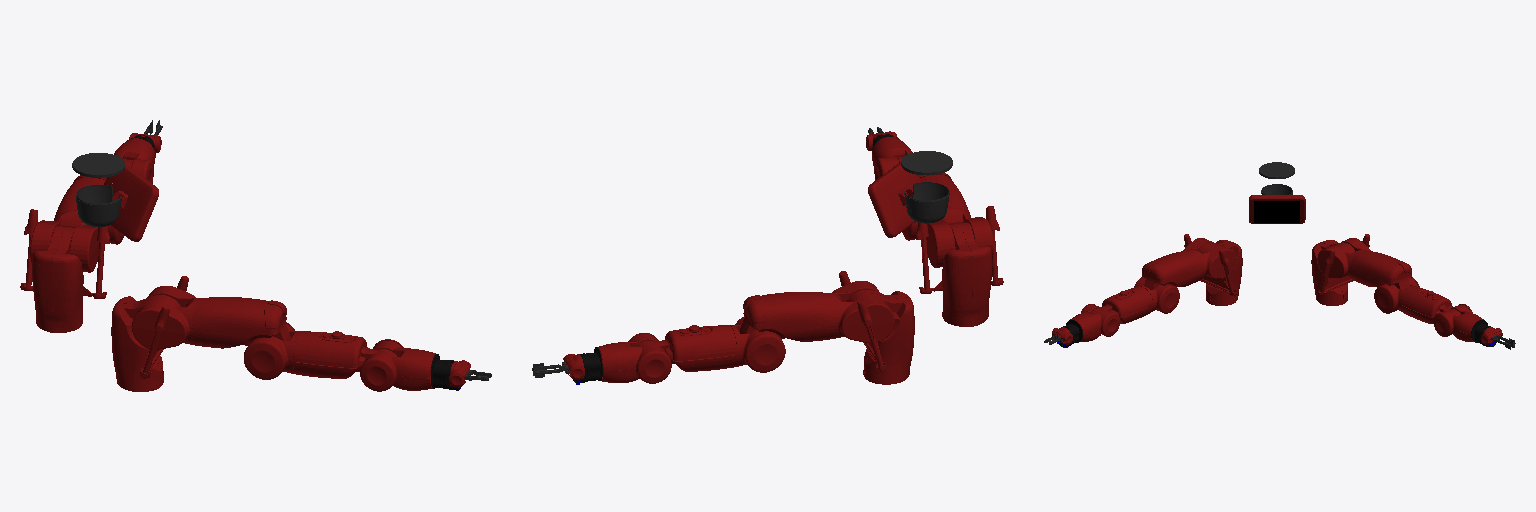
--- Facts derived from the render (not from the file) ---
3 views of the same robot in one strip: view 1: azimuth 30°, elevation 25°; view 2: azimuth 150°, elevation 25°; view 3: azimuth 270°, elevation 25° (orthographic).
Model baxter with 57 links and 56 joints (15 revolute, 4 prismatic, 37 fixed), rooted at base, posed every joint at zero.
Visible links, largest first — view 1: left_upper_shoulder, right_upper_elbow, right_upper_shoulder, right_upper_forearm, right_lower_forearm, right_lower_shoulder, screen, left_lower_shoulder, right_lower_elbow, head, sonar_ring, left_lower_forearm (+2 smaller); view 2: right_upper_shoulder, left_upper_elbow, left_upper_shoulder, left_upper_forearm, left_lower_forearm, left_lower_shoulder, screen, right_lower_shoulder, left_lower_elbow, head, sonar_ring, right_lower_forearm (+2 smaller); view 3: right_upper_elbow, left_upper_elbow, right_upper_shoulder, left_upper_shoulder, left_upper_forearm, right_upper_forearm, left_lower_forearm, right_lower_forearm, display, left_lower_shoulder, right_lower_shoulder, right_lower_elbow (+2 smaller).
Link boxes in pixels (bbox=[...]): left_upper_shoulder: bbox=[20, 209, 109, 332]; right_upper_elbow: bbox=[191, 297, 290, 348]; right_upper_shoulder: bbox=[111, 276, 188, 391]; right_upper_forearm: bbox=[293, 331, 396, 378]; right_lower_forearm: bbox=[360, 339, 435, 391]; right_lower_shoulder: bbox=[132, 286, 198, 349]; screen: bbox=[104, 164, 158, 241]; left_lower_shoulder: bbox=[30, 210, 99, 272]; right_lower_elbow: bbox=[244, 322, 299, 379]; head: bbox=[76, 185, 121, 226]; sonar_ring: bbox=[72, 153, 124, 177]; left_lower_forearm: bbox=[114, 138, 155, 183]; right_upper_shoulder: bbox=[916, 206, 1003, 326]; left_upper_elbow: bbox=[739, 292, 836, 341]; left_upper_shoulder: bbox=[839, 271, 914, 384]; left_upper_forearm: bbox=[636, 325, 736, 371]; left_lower_forearm: bbox=[598, 333, 671, 383]; left_lower_shoulder: bbox=[830, 281, 894, 342]; screen: bbox=[868, 162, 921, 237]; right_lower_shoulder: bbox=[926, 207, 993, 267]; left_lower_elbow: bbox=[730, 316, 785, 372]; head: bbox=[904, 182, 949, 223]; sonar_ring: bbox=[901, 151, 952, 174]; right_lower_forearm: bbox=[872, 137, 912, 180]; right_upper_elbow: bbox=[1142, 250, 1204, 289]; left_upper_elbow: bbox=[1349, 250, 1411, 289]; right_upper_shoulder: bbox=[1184, 234, 1242, 305]; left_upper_shoulder: bbox=[1311, 234, 1369, 305]; left_upper_forearm: bbox=[1401, 286, 1460, 323]; right_upper_forearm: bbox=[1091, 286, 1152, 323]; left_lower_forearm: bbox=[1433, 304, 1483, 342]; right_lower_forearm: bbox=[1070, 304, 1119, 342]; display: bbox=[1254, 201, 1299, 222]; left_lower_shoulder: bbox=[1317, 238, 1370, 279]; right_lower_shoulder: bbox=[1183, 238, 1236, 279]; right_lower_elbow: bbox=[1134, 277, 1179, 313].
Size in the robot's own frame: 0.9575 by 2.21 by 0.6706 metres.
26 mesh visuals loaded from 16 distinct referenced files (14 Collada DAE); not drawn: 2 (reference not matched to a file when rendering).

URDF robot description (baxter):
<?xml version="1.0" ?>
<!-- =================================================================================== -->
<!-- |    This document was autogenerated by xacro from baxter.urdf.xacro              | -->
<!-- |    EDITING THIS FILE BY HAND IS NOT RECOMMENDED                                 | -->
<!-- =================================================================================== -->
<robot name="baxter" xmlns:xacro="http://www.ros.org/wiki/xacro">
  <link name="base">
  </link>
  <link name="torso">
    <visual>
      <origin rpy="0 0 0" xyz="0 0 0"/>
      <geometry>
        <mesh filename="package://baxter_description/meshes/torso/base_link.DAE"/>
      </geometry>
      <material name="darkgray">
        <color rgba=".2 .2 .2 1"/>
      </material>
    </visual>
    <collision>
      <origin rpy="0 0 0" xyz="0 0 0"/>
      <geometry>
        <mesh filename="package://baxter_description/meshes/torso/base_link_collision.DAE"/>
      </geometry>
    </collision>
    <inertial>
      <origin rpy="0 0 0" xyz="0.000000 0.000000 0.000000"/>
      <mass value="35.336455"/>
      <inertia ixx="1.849155" ixy="-0.000354" ixz="-0.154188" iyy="1.662671" iyz="0.003292" izz="0.802239"/>
    </inertial>
  </link>
  <link name="left_torso_itb">
    <inertial>
      <origin rpy="0 0 0" xyz="0.000000 0.000000 0.000000"/>
      <mass value="0.0001"/>
      <inertia ixx="1e-08" ixy="0" ixz="0" iyy="1e-08" iyz="0" izz="1e-08"/>
    </inertial>
  </link>
  <link name="right_torso_itb">
    <inertial>
      <origin rpy="0 0 0" xyz="0.000000 0.000000 0.000000"/>
      <mass value="0.0001"/>
      <inertia ixx="1e-08" ixy="0" ixz="0" iyy="1e-08" iyz="0" izz="1e-08"/>
    </inertial>
  </link>
  <link name="head">
    <visual>
      <origin rpy="0 0 0" xyz="0 0 .00953"/>
      <geometry>
        <mesh filename="package://baxter_description/meshes/head/H0.DAE"/>
      </geometry>
      <material name="darkgray">
        <color rgba=".2 .2 .2 1"/>
      </material>
    </visual>
    <collision>
      <origin rpy="0 0 0" xyz="0.0 0 0.0"/>
      <geometry>
        <sphere radius="0.001"/>
      </geometry>
    </collision>
    <inertial>
      <origin rpy="0 0 0" xyz="0 0 0"/>
      <mass value="0.547767"/>
      <inertia ixx="0.004641" ixy="0.000159" ixz="0.000242" iyy="0.003295" iyz="-0.001324" izz="0.003415"/>
    </inertial>
  </link>
  <link name="sonar_ring">
    <visual>
      <origin rpy="0 0 0" xyz="-.0347 0 .00953"/>
      <geometry>
        <cylinder length="0.01" radius="0.085"/>
      </geometry>
      <material name="darkgray">
        <color rgba=".2 .2 .2 1"/>
      </material>
    </visual>
    <collision>
      <origin rpy="0 0 0" xyz="0.0 0 0.0"/>
      <geometry>
        <sphere radius="0.001"/>
      </geometry>
    </collision>
    <inertial>
      <origin rpy="0 0 0" xyz="0 0 0"/>
      <mass value="0.0001"/>
      <inertia ixx="1e-08" ixy="0" ixz="0" iyy="1e-08" iyz="0" izz="1e-08"/>
    </inertial>
  </link>
  <link name="screen">
    <visual>
      <origin rpy="0 -1.57079632679 0" xyz="0 -.00953 -.0347"/>
      <geometry>
        <mesh filename="package://baxter_description/meshes/head/H1.DAE"/>
      </geometry>
      <material name="darkred">
        <color rgba=".5 .1 .1 1"/>
      </material>
    </visual>
    <collision>
      <origin rpy="0 0 0" xyz="0.0 0 0.0"/>
      <geometry>
        <sphere radius="0.001"/>
      </geometry>
    </collision>
    <inertial>
      <origin rpy="0 0 0" xyz="0 0 0"/>
      <mass value="0.440171"/>
      <inertia ixx="0.004006" ixy="0.000230" ixz="0.000002" iyy="0.002800" iyz="0.000029" izz="0.001509"/>
    </inertial>
  </link>
  <link name="display">
    <visual>
      <origin rpy="0.2617993877991494 0 0" xyz="0 0 0"/>
      <geometry>
        <box size="0.218 0.16 0.001"/>
      </geometry>
      <material name="black">
        <color rgba="0 0 0 1"/>
      </material>
    </visual>
    <inertial>
      <origin rpy="0 0 0" xyz="0 0 0"/>
      <mass value="0.0001"/>
      <inertia ixx="1e-08" ixy="0" ixz="0" iyy="1e-08" iyz="0" izz="1e-08"/>
    </inertial>
  </link>
  <link name="head_camera">
    <inertial>
      <origin rpy="0 0 0" xyz="0 0 0"/>
      <mass value="0.0001"/>
      <inertia ixx="1e-08" ixy="0" ixz="0" iyy="1e-08" iyz="0" izz="1e-08"/>
    </inertial>
  </link>
  <link name="dummyhead1">
    <inertial>
      <origin rpy="0 0 0" xyz="0 0 0"/>
      <mass value="0.0001"/>
      <inertia ixx="1e-08" ixy="0" ixz="0" iyy="1e-08" iyz="0" izz="1e-08"/>
    </inertial>
  </link>
  <link name="collision_head_link_1">
    <visual>
      <origin rpy="0 0 0" xyz="0 0 0"/>
      <geometry>
        <sphere radius="0.001"/>
      </geometry>
      <material name="red">
        <color rgba="0.8 0.3 0.3 0.3"/>
      </material>
    </visual>
    <collision>
      <origin rpy="0 0 0.0" xyz="-0.07 -0.04 0.0"/>
      <geometry>
        <sphere radius="0.22"/>
      </geometry>
    </collision>
    <inertial>
      <origin rpy="0 0 0" xyz="0 0 0"/>
      <mass value="0.0001"/>
      <inertia ixx="1e-08" ixy="0" ixz="0" iyy="1e-08" iyz="0" izz="1e-08"/>
    </inertial>
  </link>
  <link name="collision_head_link_2">
    <visual>
      <origin rpy="0 0 0" xyz="0 0 0"/>
      <geometry>
        <sphere radius="0.001"/>
      </geometry>
      <material name="red">
        <color rgba="0.8 0.3 0.3 0.3"/>
      </material>
    </visual>
    <collision>
      <origin rpy="0 0 0" xyz="-0.07 0.04 0.00"/>
      <geometry>
        <sphere radius="0.22"/>
      </geometry>
    </collision>
    <inertial>
      <origin rpy="0 0 0" xyz="0 0 0"/>
      <mass value="0.0001"/>
      <inertia ixx="1e-08" ixy="0" ixz="0" iyy="1e-08" iyz="0" izz="1e-08"/>
    </inertial>
  </link>
  <joint name="collision_head_1" type="fixed">
    <origin rpy="0 0 0" xyz="0.11 0 0.75"/>
    <parent link="base"/>
    <child link="collision_head_link_1"/>
  </joint>
  <joint name="collision_head_2" type="fixed">
    <origin rpy="0 0 0" xyz="0.11 0 0.75"/>
    <parent link="base"/>
    <child link="collision_head_link_2"/>
  </joint>
  <joint name="dummy" type="fixed">
    <origin rpy="0 0 0" xyz="0 0 0"/>
    <parent link="head"/>
    <child link="dummyhead1"/>
  </joint>
  <joint name="torso_t0" type="fixed">
    <origin rpy="0 0 0" xyz="0 0 0"/>
    <parent link="base"/>
    <child link="torso"/>
    <limit effort="50000" lower="-3.01" upper="3.01" velocity="10000"/>
  </joint>
  <joint name="left_torso_itb_fixed" type="fixed">
    <origin rpy="-1.57079632679 3.1415 0" xyz="-0.08897 0.15593 0.389125"/>
    <parent link="torso"/>
    <child link="left_torso_itb"/>
  </joint>
  <joint name="right_torso_itb_fixed" type="fixed">
    <origin rpy="1.57079632679 0 0" xyz="-0.08897 -0.15593 0.389125"/>
    <parent link="torso"/>
    <child link="right_torso_itb"/>
  </joint>
  <joint name="head_pan" type="revolute">
    <origin rpy="0 0 0" xyz="0.06 0 0.686"/>
    <axis xyz="0 0 1"/>
    <parent link="torso"/>
    <child link="head"/>
    <limit effort="50000" lower="-1.3963" upper="1.3963" velocity="10000"/>
    <dynamics damping="0.7" friction="0.0"/>
  </joint>
  <joint name="head_nod" type="fixed">
    <origin rpy="1.75057 0 1.57079632679" xyz=".1227 0 0"/>
    <parent link="head"/>
    <child link="screen"/>
  </joint>
  <joint name="head_camera" type="fixed">
    <origin rpy="1.75057 0 1.57079632679" xyz="0.12839 0 0.06368"/>
    <parent link="head"/>
    <child link="head_camera"/>
  </joint>
  <joint name="display_joint" type="fixed">
    <origin rpy="0 0 0" xyz="0.0 -0.016 0.0"/>
    <parent link="screen"/>
    <child link="display"/>
  </joint>
  <joint name="sonar_s0" type="fixed">
    <origin rpy="0 0 0" xyz="0.0947 0 .817"/>
    <axis xyz="0 0 1"/>
    <parent link="torso"/>
    <child link="sonar_ring"/>
  </joint>
  <link name="right_arm_mount">
    <!-- all defaults -->
    <inertial>
      <origin rpy="0 0 0" xyz="0 0 0"/>
      <mass value="0.0001"/>
      <inertia ixx="1e-08" ixy="0" ixz="0" iyy="1e-08" iyz="0" izz="1e-08"/>
    </inertial>
  </link>
  <link name="right_upper_shoulder">
    <visual>
      <origin rpy="0 0 0" xyz="0 0 0"/>
      <geometry>
        <mesh filename="package://baxter_description/meshes/upper_shoulder/S0.DAE"/>
      </geometry>
      <material name="darkred">
        <color rgba=".5 .1 .1 1"/>
      </material>
    </visual>
    <collision>
      <origin rpy="0 0 0" xyz="0 0 0.1361"/>
      <geometry>
        <cylinder length="0.2722" radius="0.06"/>
      </geometry>
    </collision>
    <inertial>
      <origin rpy="0 0 0" xyz="0.01783 0.00086 0.19127"/>
      <mass value="5.70044"/>
      <inertia ixx="0.04709102262" ixy="0.00012787556" ixz="0.00614870039" iyy="0.03766976455" iyz="0.00078086899" izz="0.03595988478"/>
    </inertial>
  </link>
  <link name="right_lower_shoulder">
    <visual>
      <origin rpy="0 0 0" xyz="0 0 0"/>
      <geometry>
        <mesh filename="package://baxter_description/meshes/lower_shoulder/S1.DAE"/>
      </geometry>
      <material name="darkred">
        <color rgba=".5 .1 .1 1"/>
      </material>
    </visual>
    <collision>
      <origin rpy="0 0 0" xyz="0 0 0"/>
      <geometry>
        <cylinder length="0.12" radius="0.06"/>
      </geometry>
    </collision>
    <inertial>
      <origin rpy="0 0 0" xyz="0.06845 0.00269 -0.00529"/>
      <mass value="3.22698"/>
      <inertia ixx="0.01175209419" ixy="-0.00030096398" ixz="0.00207675762" iyy="0.0278859752" iyz="-0.00018821993" izz="0.02078749298"/>
    </inertial>
  </link>
  <link name="right_upper_elbow">
    <visual>
      <origin rpy="0 0 0" xyz="0 0 0"/>
      <geometry>
        <mesh filename="package://baxter_description/meshes/upper_elbow/E0.DAE"/>
      </geometry>
      <material name="darkred">
        <color rgba=".5 .1 .1 1"/>
      </material>
    </visual>
    <collision>
      <origin rpy="0 0 0" xyz="0 0 -0.0535"/>
      <geometry>
        <cylinder length="0.107" radius="0.06"/>
      </geometry>
    </collision>
    <inertial>
      <origin rpy="0 0 0" xyz="-0.00276 0.00132 0.18086"/>
      <mass value="4.31272"/>
      <inertia ixx="0.02661733557" ixy="0.00029270634" ixz="0.00392189887" iyy="0.02844355207" iyz="0.0010838933" izz="0.01248008322"/>
    </inertial>
  </link>
  <link name="right_upper_elbow_visual">
    <collision>
      <origin rpy="0 0 0" xyz="0 0 0.1365"/>
      <geometry>
        <cylinder length="0.273" radius="0.06"/>
      </geometry>
    </collision>
    <inertial>
      <origin rpy="0 0 0" xyz="0 0 0"/>
      <mass value="0.0001"/>
      <inertia ixx="1e-08" ixy="0" ixz="0" iyy="1e-08" iyz="0" izz="1e-08"/>
    </inertial>
  </link>
  <link name="right_lower_elbow">
    <visual>
      <origin rpy="0 0 0" xyz="0 0 0"/>
      <geometry>
        <mesh filename="package://baxter_description/meshes/lower_elbow/E1.DAE"/>
      </geometry>
      <material name="darkred">
        <color rgba=".5 .1 .1 1"/>
      </material>
    </visual>
    <collision>
      <origin rpy="0 0 0" xyz="0.0 0.0 0.0"/>
      <geometry>
        <cylinder length="0.10" radius="0.06"/>
      </geometry>
    </collision>
    <inertial>
      <origin rpy="0 0 0" xyz="0.02611 0.00159 -0.01117"/>
      <mass value="2.07206"/>
      <inertia ixx="0.00711582686" ixy="0.00036036173" ixz="0.0007459496" iyy="0.01318227876" iyz="-0.00019663418" izz="0.00926852064"/>
    </inertial>
  </link>
  <link name="right_upper_forearm">
    <visual>
      <origin rpy="0 0 0" xyz="0 0 0"/>
      <geometry>
        <mesh filename="package://baxter_description/meshes/upper_forearm/W0.DAE"/>
      </geometry>
      <material name="darkred">
        <color rgba=".5 .1 .1 1"/>
      </material>
    </visual>
    <collision>
      <origin rpy="0 0 0" xyz="0 0 -0.044"/>
      <geometry>
        <cylinder length="0.088" radius="0.06"/>
      </geometry>
    </collision>
    <inertial>
      <origin rpy="0 0 0" xyz="-0.00168 0.0046 0.13952"/>
      <mass value="2.24665"/>
      <inertia ixx="0.01667742825" ixy="0.00018403705" ixz="0.00018657629" iyy="0.01675457264" iyz="-0.00064732352" izz="0.0037463115"/>
    </inertial>
  </link>
  <link name="right_upper_forearm_visual">
    <collision>
      <origin rpy="0 0 0" xyz="0 0 0.136"/>
      <geometry>
        <cylinder length="0.272" radius="0.06"/>
      </geometry>
    </collision>
    <inertial>
      <origin rpy="0 0 0" xyz="0 0 0"/>
      <mass value="0.0001"/>
      <inertia ixx="1e-08" ixy="0" ixz="0" iyy="1e-08" iyz="0" izz="1e-08"/>
    </inertial>
  </link>
  <link name="right_arm_itb">
    <inertial>
      <origin rpy="0 0 0" xyz="0.000000 0.000000 0.000000"/>
      <mass value="0.0001"/>
      <inertia ixx="1e-08" ixy="0" ixz="0" iyy="1e-08" iyz="0" izz="1e-08"/>
    </inertial>
  </link>
  <link name="right_lower_forearm">
    <visual>
      <origin rpy="0 0 0" xyz="0 0 0"/>
      <geometry>
        <mesh filename="package://baxter_description/meshes/lower_forearm/W1.DAE"/>
      </geometry>
      <material name="darkred">
        <color rgba=".5 .1 .1 1"/>
      </material>
    </visual>
    <collision>
      <origin rpy="0 0 0" xyz="0 0 0"/>
      <geometry>
        <cylinder length="0.10" radius="0.06"/>
      </geometry>
    </collision>
    <inertial>
      <origin rpy="0 0 0" xyz="0.06041 0.00697 0.006"/>
      <mass value="1.60979"/>
      <inertia ixx="0.00387607152" ixy="-0.00044384784" ixz="-0.00021115038" iyy="0.00700537914" iyz="0.00015348067" izz="0.0055275524"/>
    </inertial>
  </link>
  <link name="right_wrist">
    <visual>
      <origin rpy="0 0 0" xyz="0 0 0"/>
      <geometry>
        <mesh filename="package://baxter_description/meshes/wrist/W2.DAE"/>
      </geometry>
      <material name="lightgrey">
        <color rgba=".1 .1 .1 1"/>
      </material>
    </visual>
    <collision>
      <origin rpy="0 0 0" xyz="0 0 0"/>
      <geometry>
        <cylinder length="0.165" radius="0.06"/>
      </geometry>
    </collision>
    <inertial>
      <origin rpy="0 0 0" xyz="0.00198 0.00125 0.01855"/>
      <mass value="0.35093"/>
      <inertia ixx="0.00025289155" ixy="0.00000575311" ixz="-0.00000159345" iyy="0.0002688601" iyz="-0.00000519818" izz="0.0003074118"/>
    </inertial>
  </link>
  <link name="right_hand">
    <collision>
      <origin rpy="0 0 0" xyz="0 0 -0.0232"/>
      <geometry>
        <cylinder length="0.0464" radius="0.04"/>
      </geometry>
    </collision>
    <inertial>
      <origin rpy="0 0 0" xyz="0.01093 0.00042 -0.01532"/>
      <mass value="0.19125"/>
      <inertia ixx="0.00017588" ixy="0.00000147073" ixz="0.0000243633" iyy="0.00021166377" iyz="0.00000172689" izz="0.00023745397"/>
    </inertial>
  </link>
  <link name="right_hand_camera">
    <visual>
      <origin rpy="0 0 0" xyz="0 0 0"/>
      <geometry>
        <cylinder length="0.01" radius="0.02"/>
      </geometry>
      <material name="blue">
        <color rgba="0 0 1 0.8"/>
      </material>
    </visual>
    <inertial>
      <origin rpy="0 0 0" xyz="0 0 0"/>
      <mass value="0.0001"/>
      <inertia ixx="1e-08" ixy="0" ixz="0" iyy="1e-08" iyz="0" izz="1e-08"/>
    </inertial>
  </link>
  <link name="right_hand_camera_axis">
    <inertial>
      <origin rpy="0 0 0" xyz="0 0 0"/>
      <mass value="0.0001"/>
      <inertia ixx="1e-08" ixy="0" ixz="0" iyy="1e-08" iyz="0" izz="1e-08"/>
    </inertial>
  </link>
  <link name="right_hand_range">
    <visual>
      <origin rpy="0 0 0" xyz="0 0 0"/>
      <geometry>
        <box size="0.005 .02 .005"/>
      </geometry>
      <material name="blue">
        <color rgba="0 0 1 0.8"/>
      </material>
    </visual>
    <inertial>
      <origin rpy="0 0 0" xyz="0 0 0"/>
      <mass value="0.0001"/>
      <inertia ixx="1e-08" ixy="0" ixz="0" iyy="1e-08" iyz="0" izz="1e-08"/>
    </inertial>
  </link>
  <link name="right_hand_accelerometer">
    <visual>
      <origin rpy="0 0 0" xyz="0 0 0"/>
      <geometry>
        <box size="0.01 0.01 0.01"/>
      </geometry>
      <material name="black">
        <color rgba="0 0 0 1"/>
      </material>
    </visual>
    <inertial>
      <origin rpy="0 0 0" xyz="0.000000 0.000000 0.000000"/>
      <mass value="0.0001"/>
      <inertia ixx="1e-08" ixy="0" ixz="0" iyy="1e-08" iyz="0" izz="1e-08"/>
    </inertial>
  </link>
  <joint name="right_torso_arm_mount" type="fixed">
    <origin rpy="0 0 -0.7854" xyz="0.024645 -0.219645 0.118588"/>
    <parent link="torso"/>
    <child link="right_arm_mount"/>
  </joint>
  <joint name="right_s0" type="revolute">
    <origin rpy="0 0 0" xyz="0.055695 0 0.011038"/>
    <axis xyz="0 0 1"/>
    <parent link="right_arm_mount"/>
    <child link="right_upper_shoulder"/>
    <limit effort="50.0" lower="-1.70167993878" upper="1.70167993878" velocity="1.5"/>
    <dynamics damping="0.7" friction="0.0"/>
  </joint>
  <joint name="right_s1" type="revolute">
    <origin rpy="-1.57079632679 0 0" xyz="0.069 0 0.27035"/>
    <axis xyz="0 0 1"/>
    <parent link="right_upper_shoulder"/>
    <child link="right_lower_shoulder"/>
    <limit effort="50.0" lower="-2.147" upper="1.047" velocity="1.5"/>
    <dynamics damping="0.7" friction="0.0"/>
  </joint>
  <joint name="right_e0" type="revolute">
    <origin rpy="1.57079632679 0 1.57079632679" xyz="0.102 0 0"/>
    <axis xyz="0 0 1"/>
    <parent link="right_lower_shoulder"/>
    <child link="right_upper_elbow"/>
    <limit effort="50.0" lower="-3.05417993878" upper="3.05417993878" velocity="1.5"/>
    <dynamics damping="0.7" friction="0.0"/>
  </joint>
  <joint name="right_e0_fixed" type="fixed">
    <origin rpy="1.57079632679 0 1.57079632679" xyz="0.107 0 0"/>
    <axis xyz="0 0 1"/>
    <parent link="right_lower_shoulder"/>
    <child link="right_upper_elbow_visual"/>
  </joint>
  <joint name="right_e1" type="revolute">
    <origin rpy="-1.57079632679 -1.57079632679 0" xyz="0.069 0 0.26242"/>
    <axis xyz="0 0 1"/>
    <parent link="right_upper_elbow"/>
    <child link="right_lower_elbow"/>
    <limit effort="50.0" lower="-0.05" upper="2.618" velocity="1.5"/>
    <dynamics damping="0.7" friction="0.0"/>
  </joint>
  <joint name="right_w0" type="revolute">
    <origin rpy="1.57079632679 0 1.57079632679" xyz="0.10359 0 0"/>
    <axis xyz="0 0 1"/>
    <parent link="right_lower_elbow"/>
    <child link="right_upper_forearm"/>
    <limit effort="15.0" lower="-3.059" upper="3.059" velocity="4.0"/>
    <dynamics damping="0.7" friction="0.0"/>
  </joint>
  <joint name="right_w0_fixed" type="fixed">
    <origin rpy="1.57079632679 0 1.57079632679" xyz="0.088 0 0"/>
    <axis xyz="0 0 1"/>
    <parent link="right_lower_elbow"/>
    <child link="right_upper_forearm_visual"/>
  </joint>
  <joint name="right_w0_to_itb_fixed" type="fixed">
    <origin rpy="-1.57079632679 0 1.57079632679" xyz="-0.0565 0 0.12"/>
    <axis xyz="0 0 1"/>
    <parent link="right_upper_forearm"/>
    <child link="right_arm_itb"/>
  </joint>
  <joint name="right_w1" type="revolute">
    <origin rpy="-1.57079632679 -1.57079632679 0" xyz="0.01 0 0.2707"/>
    <axis xyz="0 0 1"/>
    <parent link="right_upper_forearm"/>
    <child link="right_lower_forearm"/>
    <limit effort="15.0" lower="-1.57079632679" upper="2.094" velocity="4.0"/>
    <dynamics damping="0.7" friction="0.0"/>
  </joint>
  <joint name="right_w2" type="revolute">
    <origin rpy="1.57079632679 0 1.57079632679" xyz="0.115975 0 0"/>
    <axis xyz="0 0 1"/>
    <parent link="right_lower_forearm"/>
    <child link="right_wrist"/>
    <limit effort="15.0" lower="-3.059" upper="3.059" velocity="4.0"/>
    <dynamics damping="0.7" friction="0.0"/>
  </joint>
  <joint name="right_hand" type="fixed">
    <origin rpy="0 0 0" xyz="0 0 0.11355"/>
    <axis xyz="0 0 1"/>
    <parent link="right_wrist"/>
    <child link="right_hand"/>
  </joint>
  <joint name="right_hand_camera" type="fixed">
    <origin rpy="0 0 -1.57079633" xyz="0.03825 0.012 0.015355"/>
    <parent link="right_hand"/>
    <child link="right_hand_camera"/>
  </joint>
  <joint name="right_hand_camera_axis" type="fixed">
    <origin rpy="0 0 0" xyz="0.03825 0.012 0.015355"/>
    <parent link="right_hand"/>
    <child link="right_hand_camera_axis"/>
  </joint>
  <joint name="right_hand_range" type="fixed">
    <origin rpy="0 -1.57079632679 -1.57079632679" xyz="0.032 -0.020245 0.0288"/>
    <parent link="right_hand"/>
    <child link="right_hand_range"/>
  </joint>
  <joint name="right_hand_accelerometer" type="fixed">
    <origin rpy="0 0 0" xyz="0.00198 0.000133 -0.0146"/>
    <parent link="right_hand"/>
    <child link="right_hand_accelerometer"/>
  </joint>
  <link name="left_arm_mount">
    <!-- all defaults -->
    <inertial>
      <origin rpy="0 0 0" xyz="0 0 0"/>
      <mass value="0.0001"/>
      <inertia ixx="1e-08" ixy="0" ixz="0" iyy="1e-08" iyz="0" izz="1e-08"/>
    </inertial>
  </link>
  <link name="left_upper_shoulder">
    <visual>
      <origin rpy="0 0 0" xyz="0 0 0"/>
      <geometry>
        <mesh filename="package://baxter_description/meshes/upper_shoulder/S0.DAE"/>
      </geometry>
      <material name="darkred">
        <color rgba=".5 .1 .1 1"/>
      </material>
    </visual>
    <collision>
      <origin rpy="0 0 0" xyz="0 0 0.1361"/>
      <geometry>
        <cylinder length="0.2722" radius="0.06"/>
      </geometry>
    </collision>
    <inertial>
      <origin rpy="0 0 0" xyz="0.01783 0.00086 0.19127"/>
      <mass value="5.70044"/>
      <inertia ixx="0.04709102262" ixy="0.00012787556" ixz="0.00614870039" iyy="0.03766976455" iyz="0.00078086899" izz="0.03595988478"/>
    </inertial>
  </link>
  <link name="left_lower_shoulder">
    <visual>
      <origin rpy="0 0 0" xyz="0 0 0"/>
      <geometry>
        <mesh filename="package://baxter_description/meshes/lower_shoulder/S1.DAE"/>
      </geometry>
      <material name="darkred">
        <color rgba=".5 .1 .1 1"/>
      </material>
    </visual>
    <collision>
      <origin rpy="0 0 0" xyz="0 0 0"/>
      <geometry>
        <cylinder length="0.12" radius="0.06"/>
      </geometry>
    </collision>
    <inertial>
      <origin rpy="0 0 0" xyz="0.06845 0.00269 -0.00529"/>
      <mass value="3.22698"/>
      <inertia ixx="0.01175209419" ixy="-0.00030096398" ixz="0.00207675762" iyy="0.0278859752" iyz="-0.00018821993" izz="0.02078749298"/>
    </inertial>
  </link>
  <link name="left_upper_elbow">
    <visual>
      <origin rpy="0 0 0" xyz="0 0 0"/>
      <geometry>
        <mesh filename="package://baxter_description/meshes/upper_elbow/E0.DAE"/>
      </geometry>
      <material name="darkred">
        <color rgba=".5 .1 .1 1"/>
      </material>
    </visual>
    <collision>
      <origin rpy="0 0 0" xyz="0 0 -0.0535"/>
      <geometry>
        <cylinder length="0.107" radius="0.06"/>
      </geometry>
    </collision>
    <inertial>
      <origin rpy="0 0 0" xyz="-0.00276 0.00132 0.18086"/>
      <mass value="4.31272"/>
      <inertia ixx="0.02661733557" ixy="0.00029270634" ixz="0.00392189887" iyy="0.02844355207" iyz="0.0010838933" izz="0.01248008322"/>
    </inertial>
  </link>
  <link name="left_upper_elbow_visual">
    <collision>
      <origin rpy="0 0 0" xyz="0 0 0.1365"/>
      <geometry>
        <cylinder length="0.273" radius="0.06"/>
      </geometry>
    </collision>
    <inertial>
      <origin rpy="0 0 0" xyz="0 0 0"/>
      <mass value="0.0001"/>
      <inertia ixx="1e-08" ixy="0" ixz="0" iyy="1e-08" iyz="0" izz="1e-08"/>
    </inertial>
  </link>
  <link name="left_lower_elbow">
    <visual>
      <origin rpy="0 0 0" xyz="0 0 0"/>
      <geometry>
        <mesh filename="package://baxter_description/meshes/lower_elbow/E1.DAE"/>
      </geometry>
      <material name="darkred">
        <color rgba=".5 .1 .1 1"/>
      </material>
    </visual>
    <collision>
      <origin rpy="0 0 0" xyz="0.0 0.0 0.0"/>
      <geometry>
        <cylinder length="0.10" radius="0.06"/>
      </geometry>
    </collision>
    <inertial>
      <origin rpy="0 0 0" xyz="0.02611 0.00159 -0.01117"/>
      <mass value="2.07206"/>
      <inertia ixx="0.00711582686" ixy="0.00036036173" ixz="0.0007459496" iyy="0.01318227876" iyz="-0.00019663418" izz="0.00926852064"/>
    </inertial>
  </link>
  <link name="left_upper_forearm">
    <visual>
      <origin rpy="0 0 0" xyz="0 0 0"/>
      <geometry>
        <mesh filename="package://baxter_description/meshes/upper_forearm/W0.DAE"/>
      </geometry>
      <material name="darkred">
        <color rgba=".5 .1 .1 1"/>
      </material>
    </visual>
    <collision>
      <origin rpy="0 0 0" xyz="0 0 -0.044"/>
      <geometry>
        <cylinder length="0.088" radius="0.06"/>
      </geometry>
    </collision>
    <inertial>
      <origin rpy="0 0 0" xyz="-0.00168 0.0046 0.13952"/>
      <mass value="2.24665"/>
      <inertia ixx="0.01667742825" ixy="0.00018403705" ixz="0.00018657629" iyy="0.01675457264" iyz="-0.00064732352" izz="0.0037463115"/>
    </inertial>
  </link>
  <link name="left_upper_forearm_visual">
    <collision>
      <origin rpy="0 0 0" xyz="0 0 0.136"/>
      <geometry>
        <cylinder length="0.272" radius="0.06"/>
      </geometry>
    </collision>
    <inertial>
      <origin rpy="0 0 0" xyz="0 0 0"/>
      <mass value="0.0001"/>
      <inertia ixx="1e-08" ixy="0" ixz="0" iyy="1e-08" iyz="0" izz="1e-08"/>
    </inertial>
  </link>
  <link name="left_arm_itb">
    <inertial>
      <origin rpy="0 0 0" xyz="0.000000 0.000000 0.000000"/>
      <mass value="0.0001"/>
      <inertia ixx="1e-08" ixy="0" ixz="0" iyy="1e-08" iyz="0" izz="1e-08"/>
    </inertial>
  </link>
  <link name="left_lower_forearm">
    <visual>
      <origin rpy="0 0 0" xyz="0 0 0"/>
      <geometry>
        <mesh filename="package://baxter_description/meshes/lower_forearm/W1.DAE"/>
      </geometry>
      <material name="darkred">
        <color rgba=".5 .1 .1 1"/>
      </material>
    </visual>
    <collision>
      <origin rpy="0 0 0" xyz="0 0 0"/>
      <geometry>
        <cylinder length="0.10" radius="0.06"/>
      </geometry>
    </collision>
    <inertial>
      <origin rpy="0 0 0" xyz="0.06041 0.00697 0.006"/>
      <mass value="1.60979"/>
      <inertia ixx="0.00387607152" ixy="-0.00044384784" ixz="-0.00021115038" iyy="0.00700537914" iyz="0.00015348067" izz="0.0055275524"/>
    </inertial>
  </link>
  <link name="left_wrist">
    <visual>
      <origin rpy="0 0 0" xyz="0 0 0"/>
      <geometry>
        <mesh filename="package://baxter_description/meshes/wrist/W2.DAE"/>
      </geometry>
      <material name="lightgrey">
        <color rgba=".1 .1 .1 1"/>
      </material>
    </visual>
    <collision>
      <origin rpy="0 0 0" xyz="0 0 0"/>
      <geometry>
        <cylinder length="0.165" radius="0.06"/>
      </geometry>
    </collision>
    <inertial>
      <origin rpy="0 0 0" xyz="0.00198 0.00125 0.01855"/>
      <mass value="0.35093"/>
      <inertia ixx="0.00025289155" ixy="0.00000575311" ixz="-0.00000159345" iyy="0.0002688601" iyz="-0.00000519818" izz="0.0003074118"/>
    </inertial>
  </link>
  <link name="left_hand">
    <collision>
      <origin rpy="0 0 0" xyz="0 0 -0.0232"/>
      <geometry>
        <cylinder length="0.0464" radius="0.04"/>
      </geometry>
    </collision>
    <inertial>
      <origin rpy="0 0 0" xyz="0.01093 0.00042 -0.01532"/>
      <mass value="0.19125"/>
      <inertia ixx="0.00017588" ixy="0.00000147073" ixz="0.0000243633" iyy="0.00021166377" iyz="0.00000172689" izz="0.00023745397"/>
    </inertial>
  </link>
  <link name="left_hand_camera">
    <visual>
      <origin rpy="0 0 0" xyz="0 0 0"/>
      <geometry>
        <cylinder length="0.01" radius="0.02"/>
      </geometry>
      <material name="blue">
        <color rgba="0 0 1 0.8"/>
      </material>
    </visual>
    <inertial>
      <origin rpy="0 0 0" xyz="0 0 0"/>
      <mass value="0.0001"/>
      <inertia ixx="1e-08" ixy="0" ixz="0" iyy="1e-08" iyz="0" izz="1e-08"/>
    </inertial>
  </link>
  <link name="left_hand_camera_axis">
    <inertial>
      <origin rpy="0 0 0" xyz="0 0 0"/>
      <mass value="0.0001"/>
      <inertia ixx="1e-08" ixy="0" ixz="0" iyy="1e-08" iyz="0" izz="1e-08"/>
    </inertial>
  </link>
  <link name="left_hand_range">
    <visual>
      <origin rpy="0 0 0" xyz="0 0 0"/>
      <geometry>
        <box size="0.005 .02 .005"/>
      </geometry>
      <material name="blue">
        <color rgba="0 0 1 0.8"/>
      </material>
    </visual>
    <inertial>
      <origin rpy="0 0 0" xyz="0 0 0"/>
      <mass value="0.0001"/>
      <inertia ixx="1e-08" ixy="0" ixz="0" iyy="1e-08" iyz="0" izz="1e-08"/>
    </inertial>
  </link>
  <link name="left_hand_accelerometer">
    <visual>
      <origin rpy="0 0 0" xyz="0 0 0"/>
      <geometry>
        <box size="0.01 0.01 0.01"/>
      </geometry>
      <material name="black">
        <color rgba="0 0 0 1"/>
      </material>
    </visual>
    <inertial>
      <origin rpy="0 0 0" xyz="0.000000 0.000000 0.000000"/>
      <mass value="0.0001"/>
      <inertia ixx="1e-08" ixy="0" ixz="0" iyy="1e-08" iyz="0" izz="1e-08"/>
    </inertial>
  </link>
  <joint name="left_torso_arm_mount" type="fixed">
    <origin rpy="0 0 0.7854" xyz="0.024645 0.219645 0.118588"/>
    <parent link="torso"/>
    <child link="left_arm_mount"/>
  </joint>
  <joint name="left_s0" type="revolute">
    <origin rpy="0 0 0" xyz="0.055695 0 0.011038"/>
    <axis xyz="0 0 1"/>
    <parent link="left_arm_mount"/>
    <child link="left_upper_shoulder"/>
    <limit effort="50.0" lower="-1.70167993878" upper="1.70167993878" velocity="1.5"/>
    <dynamics damping="0.7" friction="0.0"/>
  </joint>
  <joint name="left_s1" type="revolute">
    <origin rpy="-1.57079632679 0 0" xyz="0.069 0 0.27035"/>
    <axis xyz="0 0 1"/>
    <parent link="left_upper_shoulder"/>
    <child link="left_lower_shoulder"/>
    <limit effort="50.0" lower="-2.147" upper="1.047" velocity="1.5"/>
    <dynamics damping="0.7" friction="0.0"/>
  </joint>
  <joint name="left_e0" type="revolute">
    <origin rpy="1.57079632679 0 1.57079632679" xyz="0.102 0 0"/>
    <axis xyz="0 0 1"/>
    <parent link="left_lower_shoulder"/>
    <child link="left_upper_elbow"/>
    <limit effort="50.0" lower="-3.05417993878" upper="3.05417993878" velocity="1.5"/>
    <dynamics damping="0.7" friction="0.0"/>
  </joint>
  <joint name="left_e0_fixed" type="fixed">
    <origin rpy="1.57079632679 0 1.57079632679" xyz="0.107 0 0"/>
    <axis xyz="0 0 1"/>
    <parent link="left_lower_shoulder"/>
    <child link="left_upper_elbow_visual"/>
  </joint>
  <joint name="left_e1" type="revolute">
    <origin rpy="-1.57079632679 -1.57079632679 0" xyz="0.069 0 0.26242"/>
    <axis xyz="0 0 1"/>
    <parent link="left_upper_elbow"/>
    <child link="left_lower_elbow"/>
    <limit effort="50.0" lower="-0.05" upper="2.618" velocity="1.5"/>
    <dynamics damping="0.7" friction="0.0"/>
  </joint>
  <joint name="left_w0" type="revolute">
    <origin rpy="1.57079632679 0 1.57079632679" xyz="0.10359 0 0"/>
    <axis xyz="0 0 1"/>
    <parent link="left_lower_elbow"/>
    <child link="left_upper_forearm"/>
    <limit effort="15.0" lower="-3.059" upper="3.059" velocity="4.0"/>
    <dynamics damping="0.7" friction="0.0"/>
  </joint>
  <joint name="left_w0_fixed" type="fixed">
    <origin rpy="1.57079632679 0 1.57079632679" xyz="0.088 0 0"/>
    <axis xyz="0 0 1"/>
    <parent link="left_lower_elbow"/>
    <child link="left_upper_forearm_visual"/>
  </joint>
  <joint name="left_w0_to_itb_fixed" type="fixed">
    <origin rpy="-1.57079632679 0 1.57079632679" xyz="-0.0565 0 0.12"/>
    <axis xyz="0 0 1"/>
    <parent link="left_upper_forearm"/>
    <child link="left_arm_itb"/>
  </joint>
  <joint name="left_w1" type="revolute">
    <origin rpy="-1.57079632679 -1.57079632679 0" xyz="0.01 0 0.2707"/>
    <axis xyz="0 0 1"/>
    <parent link="left_upper_forearm"/>
    <child link="left_lower_forearm"/>
    <limit effort="15.0" lower="-1.57079632679" upper="2.094" velocity="4.0"/>
    <dynamics damping="0.7" friction="0.0"/>
  </joint>
  <joint name="left_w2" type="revolute">
    <origin rpy="1.57079632679 0 1.57079632679" xyz="0.115975 0 0"/>
    <axis xyz="0 0 1"/>
    <parent link="left_lower_forearm"/>
    <child link="left_wrist"/>
    <limit effort="15.0" lower="-3.059" upper="3.059" velocity="4.0"/>
    <dynamics damping="0.7" friction="0.0"/>
  </joint>
  <joint name="left_hand" type="fixed">
    <origin rpy="0 0 0" xyz="0 0 0.11355"/>
    <axis xyz="0 0 1"/>
    <parent link="left_wrist"/>
    <child link="left_hand"/>
  </joint>
  <joint name="left_hand_camera" type="fixed">
    <origin rpy="0 0 -1.57079633" xyz="0.03825 0.012 0.015355"/>
    <parent link="left_hand"/>
    <child link="left_hand_camera"/>
  </joint>
  <joint name="left_hand_camera_axis" type="fixed">
    <origin rpy="0 0 0" xyz="0.03825 0.012 0.015355"/>
    <parent link="left_hand"/>
    <child link="left_hand_camera_axis"/>
  </joint>
  <joint name="left_hand_range" type="fixed">
    <origin rpy="0 -1.57079632679 -1.57079632679" xyz="0.032 -0.020245 0.0288"/>
    <parent link="left_hand"/>
    <child link="left_hand_range"/>
  </joint>
  <joint name="left_hand_accelerometer" type="fixed">
    <origin rpy="0 0 0" xyz="0.00198 0.000133 -0.0146"/>
    <parent link="left_hand"/>
    <child link="left_hand_accelerometer"/>
  </joint>
  <link name="pedestal">
    <visual>
      <origin rpy="0 0 0" xyz="0 0 0"/>
      <geometry>
        <mesh filename="package://baxter_description/meshes/base/PEDESTAL.DAE"/>
      </geometry>
      <material name="darkgray">
        <color rgba=".2 .2 .2 1"/>
      </material>
    </visual>
    <collision>
      <origin rpy="0 0 0" xyz="0 0 0"/>
      <geometry>
        <mesh filename="package://baxter_description/meshes/base/pedestal_link_collision.DAE"/>
      </geometry>
    </collision>
    <inertial>
      <origin rpy="0 0 0" xyz="0 0 0"/>
      <mass value="60.86397744"/>
      <inertia ixx="5.0635929" ixy="0.00103417" ixz="0.80199628" iyy="6.08689388" iyz="0.00105311" izz="4.96191932"/>
    </inertial>
  </link>
  <joint name="pedestal_fixed" type="fixed">
    <origin rpy="0 0 0" xyz="0.0 0.0 0.0"/>
    <parent link="torso"/>
    <child link="pedestal"/>
  </joint>
  <!-- Base of end effector -->
  <link name="left_gripper_base">
    <visual>
      <origin rpy="-1.57079632679 3.14159265359 0" xyz="0 0 0"/>
      <geometry>
        <mesh filename="package://rethink_ee_description/meshes/electric_gripper/electric_gripper_base.DAE"/>
      </geometry>
      <material name="darkred">
        <color rgba=".5 .1 .1 1"/>
      </material>
    </visual>
    <collision>
      <origin rpy="-1.57079632679 3.14159265359 0" xyz="0.0 0.0 0"/>
      <geometry>
        <cylinder length="0.1" radius="0.029"/>
      </geometry>
    </collision>
    <inertial>
      <origin rpy="-1.57079632679 3.14159265359 0" xyz="0.0 0.0 0.0"/>
      <mass value="0.3"/>
      <inertia ixx="2e-08" ixy="0" ixz="0" iyy="3e-08" iyz="0" izz="2e-08"/>
    </inertial>
  </link>
  <link name="l_gripper_l_finger">
    <visual>
      <origin rpy="0 0 -3.14159265359" xyz="0 0 0"/>
      <geometry>
        <mesh filename="package://rethink_ee_description/meshes/electric_gripper/fingers/extended_narrow.DAE"/>
      </geometry>
      <material name="darkgray">
        <color rgba=".2 .2 .2 1"/>
      </material>
    </visual>
    <collision>
      <origin rpy="0 0 -3.14159265359" xyz="0 0.01725 0.0615"/>
      <geometry>
        <box size="0.01 0.0135 0.1127"/>
      </geometry>
    </collision>
    <collision>
      <origin rpy="0 0 -3.14159265359" xyz="-0.005 -0.003 0.0083"/>
      <geometry>
        <box size="0.01 0.05 0.017"/>
      </geometry>
    </collision>
    <inertial>
      <origin rpy="0 0 -3.14159265359" xyz="0 0 0"/>
      <mass value="0.02"/>
      <inertia ixx="0.01" ixy="0" ixz="0" iyy="0.01" iyz="0" izz="0.01"/>
    </inertial>
  </link>
  <gazebo reference="l_gripper_l_finger">
    <mu1>1000</mu1>
    <mu2>1000</mu2>
    <fdir1>0.0 0.0 1.0</fdir1>
    <kp>1e5</kp>
    <kd>1.0</kd>
  </gazebo>
  <link name="l_gripper_l_finger_tip">
    <visual>
      <origin rpy="0 0 3.14159265359" xyz="0 0 0"/>
      <geometry>
        <mesh filename="package://rethink_ee_description/meshes/electric_gripper/fingers/paddle_tip.DAE"/>
      </geometry>
      <material name="darkgray">
        <color rgba=".2 .2 .2 1"/>
      </material>
    </visual>
    <collision>
      <origin rpy="0 0 3.14159265359" xyz="0 -0.0045 -0.015"/>
      <geometry>
        <box size="0.042 0.0065 0.037"/>
      </geometry>
    </collision>
    <inertial>
      <origin rpy="0 0 3.14159265359" xyz="0 0 0"/>
      <mass value="0.01"/>
      <inertia ixx="0.01" ixy="0" ixz="0" iyy="0.01" iyz="0" izz="0.01"/>
    </inertial>
  </link>
  <joint name="l_gripper_l_finger_tip_joint" type="fixed">
    <origin rpy="0 0 0" xyz="0.0 0.01725 0.1127"/>
    <parent link="l_gripper_l_finger"/>
    <child link="l_gripper_l_finger_tip"/>
  </joint>
  <link name="l_gripper_r_finger">
    <visual>
      <origin rpy="0 0 -0.0" xyz="0 0 0"/>
      <geometry>
        <mesh filename="package://rethink_ee_description/meshes/electric_gripper/fingers/extended_narrow.DAE"/>
      </geometry>
      <material name="darkgray">
        <color rgba=".2 .2 .2 1"/>
      </material>
    </visual>
    <collision>
      <origin rpy="0 0 -0.0" xyz="0 -0.01725 0.0615"/>
      <geometry>
        <box size="0.01 0.0135 0.1127"/>
      </geometry>
    </collision>
    <collision>
      <origin rpy="0 0 -0.0" xyz="0.005 0.003 0.0083"/>
      <geometry>
        <box size="0.01 0.05 0.017"/>
      </geometry>
    </collision>
    <inertial>
      <origin rpy="0 0 -0.0" xyz="0 0 0"/>
      <mass value="0.02"/>
      <inertia ixx="0.01" ixy="0" ixz="0" iyy="0.01" iyz="0" izz="0.01"/>
    </inertial>
  </link>
  <gazebo reference="l_gripper_r_finger">
    <mu1>1000</mu1>
    <mu2>1000</mu2>
    <fdir1>0.0 0.0 1.0</fdir1>
    <kp>1e5</kp>
    <kd>1.0</kd>
  </gazebo>
  <link name="l_gripper_r_finger_tip">
    <visual>
      <origin rpy="0 0 0.0" xyz="0 0 0"/>
      <geometry>
        <mesh filename="package://rethink_ee_description/meshes/electric_gripper/fingers/paddle_tip.DAE"/>
      </geometry>
      <material name="darkgray">
        <color rgba=".2 .2 .2 1"/>
      </material>
    </visual>
    <collision>
      <origin rpy="0 0 0.0" xyz="0 0.0045 -0.015"/>
      <geometry>
        <box size="0.042 0.0065 0.037"/>
      </geometry>
    </collision>
    <inertial>
      <origin rpy="0 0 0.0" xyz="0 0 0"/>
      <mass value="0.01"/>
      <inertia ixx="0.01" ixy="0" ixz="0" iyy="0.01" iyz="0" izz="0.01"/>
    </inertial>
  </link>
  <joint name="l_gripper_r_finger_tip_joint" type="fixed">
    <origin rpy="0 0 0" xyz="0.0 -0.01725 0.1127"/>
    <parent link="l_gripper_r_finger"/>
    <child link="l_gripper_r_finger_tip"/>
  </joint>
  <!-- Electric Gripper Base Joint -->
  <joint name="left_gripper_base" type="fixed">
    <origin rpy="0 0 0" xyz="0 0 0.025"/>
    <parent link="left_hand"/>
    <child link="left_gripper_base"/>
  </joint>
  <!-- Electric Gripper Tip joint -->
  <joint name="left_endpoint" type="fixed">
    <origin rpy="0 0 0" xyz="0 0 0.1327"/>
    <parent link="left_gripper_base"/>
    <child link="left_gripper"/>
  </joint>
  <!-- Electric Gripper Tip link -->
  <link name="left_gripper">
    <inertial>
      <origin rpy="0 0 0" xyz="0 0 0"/>
      <mass value="0.0001"/>
      <inertia ixx="0" ixy="0" ixz="0" iyy="0" iyz="0" izz="0.0"/>
    </inertial>
  </link>
  <joint name="l_gripper_l_finger_joint" type="prismatic">
    <origin rpy="0 0 0" xyz="0.0 0.0 0.02"/>
    <axis xyz="0 1 0"/>
    <parent link="left_gripper_base"/>
    <child link="l_gripper_l_finger"/>
    <limit effort="20.0" lower="0.0" upper="0.020833" velocity="5.0"/>
    <dynamics damping="0.7" friction="0.0"/>
  </joint>
  <joint name="l_gripper_r_finger_joint" type="prismatic">
    <origin rpy="0 0 0" xyz="0.0 0.0 0.02"/>
    <axis xyz="0 1 0"/>
    <parent link="left_gripper_base"/>
    <child link="l_gripper_r_finger"/>
    <limit effort="20.0" lower="-0.020833" upper="0.0" velocity="5.0"/>
    <mimic joint="l_gripper_l_finger_joint" multiplier="-1.0"/>
    <dynamics damping="0.7" friction="0.0"/>
  </joint>
  <transmission name="gripper_left1">
    <type>transmission_interface/SimpleTransmission</type>
    <joint name="l_gripper_r_finger_joint">
      <hardwareInterface>hardware_interface/EffortJointInterface</hardwareInterface>
    </joint>
    <actuator name="gripper_l1_motor1">
      <hardwareInterface>hardware_interface/EffortJointInterface</hardwareInterface>
      <mechanicalReduction>1</mechanicalReduction>
    </actuator>
  </transmission>
  <transmission name="gripper_left2">
    <type>transmission_interface/SimpleTransmission</type>
    <joint name="l_gripper_l_finger_joint">
      <hardwareInterface>hardware_interface/EffortJointInterface</hardwareInterface>
    </joint>
    <actuator name="gripper_l1_motor2">
      <hardwareInterface>hardware_interface/EffortJointInterface</hardwareInterface>
      <mechanicalReduction>1</mechanicalReduction>
    </actuator>
  </transmission>
  <gazebo reference="l_gripper_r_finger_joint">
    <implicitSpringDamper>1</implicitSpringDamper>
  </gazebo>
  <gazebo reference="l_gripper_l_finger_joint">
    <implicitSpringDamper>1</implicitSpringDamper>
  </gazebo>
  <!-- Base of end effector -->
  <link name="right_gripper_base">
    <visual>
      <origin rpy="-1.57079632679 3.14159265359 0" xyz="0 0 0"/>
      <geometry>
        <mesh filename="package://rethink_ee_description/meshes/electric_gripper/electric_gripper_base.DAE"/>
      </geometry>
      <material name="darkred">
        <color rgba=".5 .1 .1 1"/>
      </material>
    </visual>
    <collision>
      <origin rpy="-1.57079632679 3.14159265359 0" xyz="0.0 0.0 0"/>
      <geometry>
        <cylinder length="0.1" radius="0.029"/>
      </geometry>
    </collision>
    <inertial>
      <origin rpy="-1.57079632679 3.14159265359 0" xyz="0.0 0.0 0.0"/>
      <mass value="0.3"/>
      <inertia ixx="2e-08" ixy="0" ixz="0" iyy="3e-08" iyz="0" izz="2e-08"/>
    </inertial>
  </link>
  <link name="r_gripper_l_finger">
    <visual>
      <origin rpy="0 0 -3.14159265359" xyz="0 0 0"/>
      <geometry>
        <mesh filename="package://rethink_ee_description/meshes/electric_gripper/fingers/standard_narrow.DAE"/>
      </geometry>
      <material name="darkgray">
        <color rgba=".2 .2 .2 1"/>
      </material>
    </visual>
    <collision>
      <origin rpy="0 0 -3.14159265359" xyz="0 0.01725 0.04"/>
      <geometry>
        <box size="0.01 0.0135 0.075"/>
      </geometry>
    </collision>
    <collision>
      <origin rpy="0 0 -3.14159265359" xyz="-0.005 -0.003 0.0083"/>
      <geometry>
        <box size="0.01 0.05 0.017"/>
      </geometry>
    </collision>
    <inertial>
      <origin rpy="0 0 -3.14159265359" xyz="0 0 0"/>
      <mass value="0.02"/>
      <inertia ixx="0.01" ixy="0" ixz="0" iyy="0.01" iyz="0" izz="0.01"/>
    </inertial>
  </link>
  <gazebo reference="r_gripper_l_finger">
    <mu1>1000</mu1>
    <mu2>1000</mu2>
    <fdir1>0.0 0.0 1.0</fdir1>
    <kp>1e5</kp>
    <kd>1.0</kd>
  </gazebo>
  <link name="r_gripper_l_finger_tip">
    <visual>
      <origin rpy="0 0 3.14159265359" xyz="0 0 0"/>
      <geometry>
        <mesh filename="package://rethink_ee_description/meshes/electric_gripper/fingers/basic_hard_tip.DAE"/>
      </geometry>
      <material name="darkgray">
        <color rgba=".2 .2 .2 1"/>
      </material>
    </visual>
    <collision>
      <origin rpy="0 0 3.14159265359" xyz="0 -0.0045 -0.015"/>
      <geometry>
        <box size="0.016 0.0065 0.037"/>
      </geometry>
    </collision>
    <inertial>
      <origin rpy="0 0 3.14159265359" xyz="0 0 0"/>
      <mass value="0.01"/>
      <inertia ixx="0.01" ixy="0" ixz="0" iyy="0.01" iyz="0" izz="0.01"/>
    </inertial>
  </link>
  <joint name="r_gripper_l_finger_tip_joint" type="fixed">
    <origin rpy="0 0 0" xyz="0.0 0.01725 0.075"/>
    <parent link="r_gripper_l_finger"/>
    <child link="r_gripper_l_finger_tip"/>
  </joint>
  <link name="r_gripper_r_finger">
    <visual>
      <origin rpy="0 0 -0.0" xyz="0 0 0"/>
      <geometry>
        <mesh filename="package://rethink_ee_description/meshes/electric_gripper/fingers/standard_narrow.DAE"/>
      </geometry>
      <material name="darkgray">
        <color rgba=".2 .2 .2 1"/>
      </material>
    </visual>
    <collision>
      <origin rpy="0 0 -0.0" xyz="0 -0.01725 0.04"/>
      <geometry>
        <box size="0.01 0.0135 0.075"/>
      </geometry>
    </collision>
    <collision>
      <origin rpy="0 0 -0.0" xyz="0.005 0.003 0.0083"/>
      <geometry>
        <box size="0.01 0.05 0.017"/>
      </geometry>
    </collision>
    <inertial>
      <origin rpy="0 0 -0.0" xyz="0 0 0"/>
      <mass value="0.02"/>
      <inertia ixx="0.01" ixy="0" ixz="0" iyy="0.01" iyz="0" izz="0.01"/>
    </inertial>
  </link>
  <gazebo reference="r_gripper_r_finger">
    <mu1>1000</mu1>
    <mu2>1000</mu2>
    <fdir1>0.0 0.0 1.0</fdir1>
    <kp>1e5</kp>
    <kd>1.0</kd>
  </gazebo>
  <link name="r_gripper_r_finger_tip">
    <visual>
      <origin rpy="0 0 0.0" xyz="0 0 0"/>
      <geometry>
        <mesh filename="package://rethink_ee_description/meshes/electric_gripper/fingers/basic_hard_tip.DAE"/>
      </geometry>
      <material name="darkgray">
        <color rgba=".2 .2 .2 1"/>
      </material>
    </visual>
    <collision>
      <origin rpy="0 0 0.0" xyz="0 0.0045 -0.015"/>
      <geometry>
        <box size="0.016 0.0065 0.037"/>
      </geometry>
    </collision>
    <inertial>
      <origin rpy="0 0 0.0" xyz="0 0 0"/>
      <mass value="0.01"/>
      <inertia ixx="0.01" ixy="0" ixz="0" iyy="0.01" iyz="0" izz="0.01"/>
    </inertial>
  </link>
  <joint name="r_gripper_r_finger_tip_joint" type="fixed">
    <origin rpy="0 0 0" xyz="0.0 -0.01725 0.075"/>
    <parent link="r_gripper_r_finger"/>
    <child link="r_gripper_r_finger_tip"/>
  </joint>
  <!-- Electric Gripper Base Joint -->
  <joint name="right_gripper_base" type="fixed">
    <origin rpy="0 0 0" xyz="0 0 0.025"/>
    <parent link="right_hand"/>
    <child link="right_gripper_base"/>
  </joint>
  <!-- Electric Gripper Tip joint -->
  <joint name="right_endpoint" type="fixed">
    <origin rpy="0 0 0" xyz="0 0 0.095"/>
    <parent link="right_gripper_base"/>
    <child link="right_gripper"/>
  </joint>
  <!-- Electric Gripper Tip link -->
  <link name="right_gripper">
    <inertial>
      <origin rpy="0 0 0" xyz="0 0 0"/>
      <mass value="0.0001"/>
      <inertia ixx="0" ixy="0" ixz="0" iyy="0" iyz="0" izz="0.0"/>
    </inertial>
  </link>
  <joint name="r_gripper_l_finger_joint" type="prismatic">
    <origin rpy="0 0 0" xyz="0.0 0.0 0.02"/>
    <axis xyz="0 1 0"/>
    <parent link="right_gripper_base"/>
    <child link="r_gripper_l_finger"/>
    <limit effort="20.0" lower="0.0" upper="0.020833" velocity="5.0"/>
    <dynamics damping="0.7" friction="0.0"/>
  </joint>
  <joint name="r_gripper_r_finger_joint" type="prismatic">
    <origin rpy="0 0 0" xyz="0.0 0.0 0.02"/>
    <axis xyz="0 1 0"/>
    <parent link="right_gripper_base"/>
    <child link="r_gripper_r_finger"/>
    <limit effort="20.0" lower="-0.020833" upper="0.0" velocity="5.0"/>
    <mimic joint="r_gripper_l_finger_joint" multiplier="-1.0"/>
    <dynamics damping="0.7" friction="0.0"/>
  </joint>
  <transmission name="gripper_right1">
    <type>transmission_interface/SimpleTransmission</type>
    <joint name="r_gripper_r_finger_joint">
      <hardwareInterface>hardware_interface/EffortJointInterface</hardwareInterface>
    </joint>
    <actuator name="gripper_r1_motor1">
      <hardwareInterface>hardware_interface/EffortJointInterface</hardwareInterface>
      <mechanicalReduction>1</mechanicalReduction>
    </actuator>
  </transmission>
  <transmission name="gripper_right2">
    <type>transmission_interface/SimpleTransmission</type>
    <joint name="r_gripper_l_finger_joint">
      <hardwareInterface>hardware_interface/EffortJointInterface</hardwareInterface>
    </joint>
    <actuator name="gripper_r1_motor2">
      <hardwareInterface>hardware_interface/EffortJointInterface</hardwareInterface>
      <mechanicalReduction>1</mechanicalReduction>
    </actuator>
  </transmission>
  <gazebo reference="r_gripper_r_finger_joint">
    <implicitSpringDamper>1</implicitSpringDamper>
  </gazebo>
  <gazebo reference="r_gripper_l_finger_joint">
    <implicitSpringDamper>1</implicitSpringDamper>
  </gazebo>
</robot>
